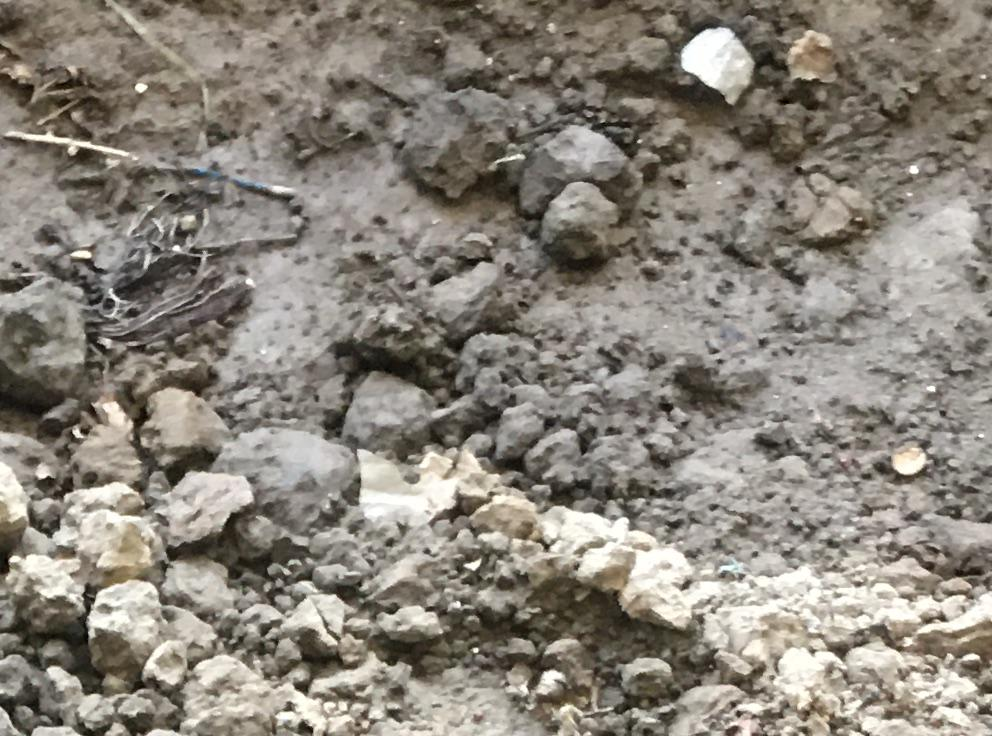block: (210, 425, 353, 536), (401, 90, 512, 202), (1, 282, 92, 407), (518, 125, 632, 216), (84, 583, 168, 678), (140, 385, 227, 472), (5, 552, 84, 642), (75, 509, 167, 585), (539, 179, 619, 259)
